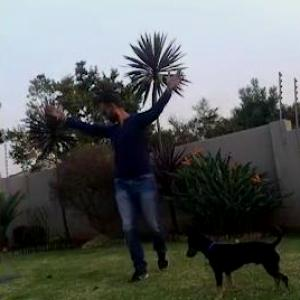takeoff: (30, 63, 197, 272)
